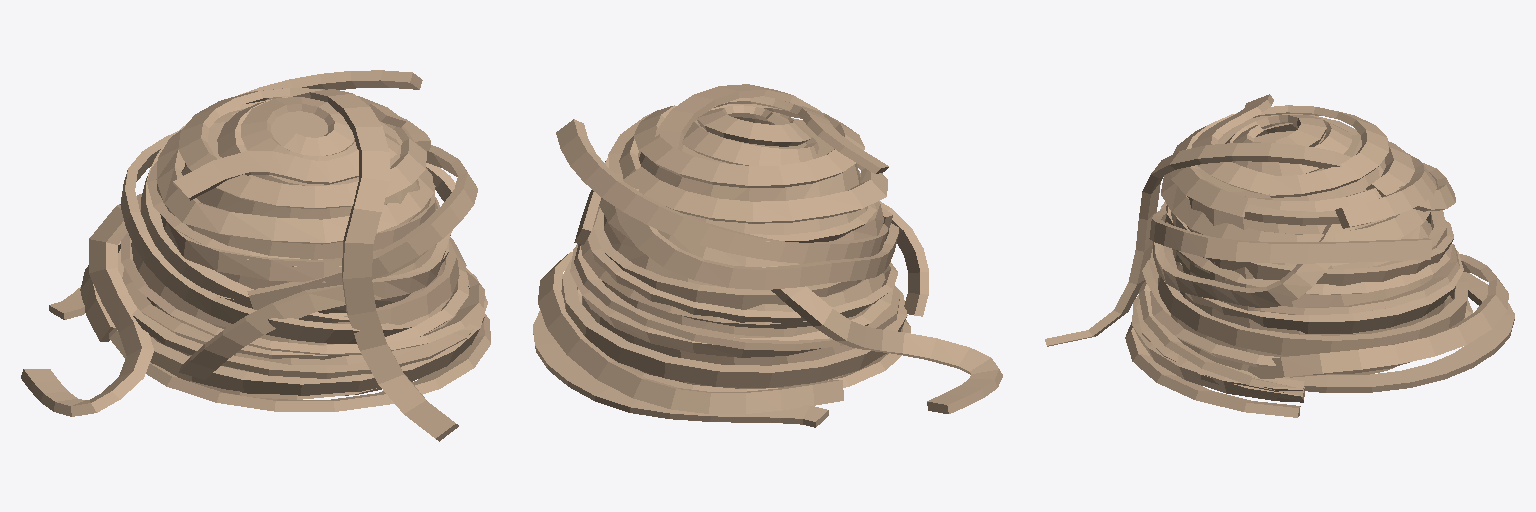
URDF robot description (pasta):
<robot name="pasta">
  <link name="pasta">
    <collision>
      <origin rpy="1.57 0 0" xyz="-0.01 -0.01 0.025"/>
      <geometry>
        <mesh filename="pasta.dae" scale="0.05 0.035 0.05" />
      </geometry>
    </collision>
    <visual>
      <origin rpy="1.57 0 0" xyz="-0.01 -0.01 0.025"/>
      <material name="dough">
        <color rgba="0.78 0.68 0.58 1.0" />
      </material>
      <geometry>
        <mesh filename="pasta.dae" scale="0.05 0.035 0.05" />
      </geometry>
    </visual>
  </link>
</robot>

--- Facts derived from the render (not from the file) ---
Views: 3 orthographic renders of the robot side by side, from view 1: azimuth 30°, elevation 25°; view 2: azimuth 150°, elevation 25°; view 3: azimuth 270°, elevation 25°.
Robot: pasta — 1 links, 0 joints (none); root link pasta; default pose: every joint at zero.
Visible links, largest first — view 1: pasta; view 2: pasta; view 3: pasta.
Link boxes in pixels (bbox=[...]): pasta: bbox=[21, 70, 490, 441]; pasta: bbox=[533, 84, 1002, 427]; pasta: bbox=[1045, 94, 1514, 417].
Bounding box of the posed robot: 0.0968 × 0.1 × 0.052 m (x, y, z).
Meshes: 1 distinct files referenced, 1 mesh visuals loaded (1 Collada DAE).